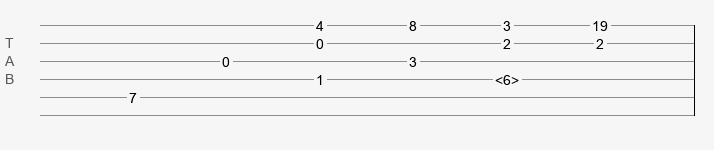0: (222, 54, 230, 64), (316, 36, 324, 46)
1: (316, 72, 324, 82)
19: (592, 18, 608, 28)
2: (503, 36, 511, 46), (596, 36, 604, 46)
3: (409, 54, 417, 64), (503, 18, 511, 28)
4: (316, 18, 324, 28)
7: (129, 90, 137, 100)
8: (409, 18, 417, 28)
harmonic: (495, 72, 519, 82)
